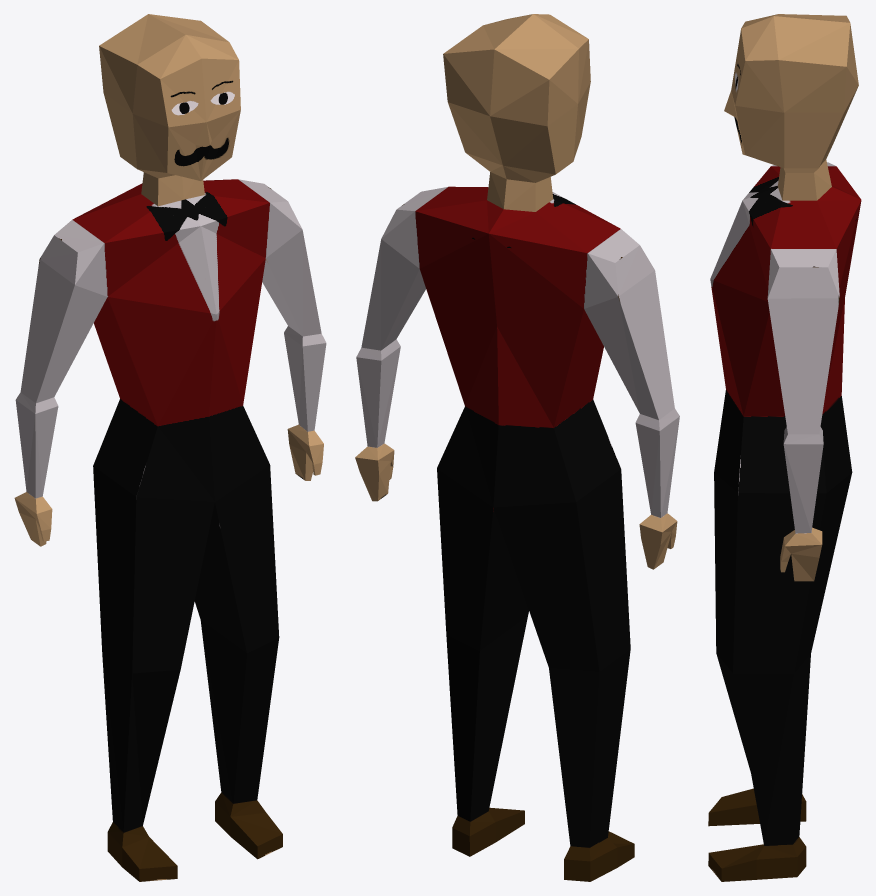
File: barman.obj
3 renders of one model, left to right at view 1: azimuth 30°, elevation 25°; view 2: azimuth 150°, elevation 25°; view 3: azimuth 270°, elevation 25°, orthographic. The views are drawn at different scales.
Parts seen in each view (by area): view 1: Cube; view 2: Cube; view 3: Cube.
Part boxes in pixels (x1,y1,x2,y2): Cube: [14, 14, 326, 881]; Cube: [355, 14, 679, 881]; Cube: [708, 14, 861, 881].
Size of the model in its own units: 0.6807 by 1.79 by 0.2987.
